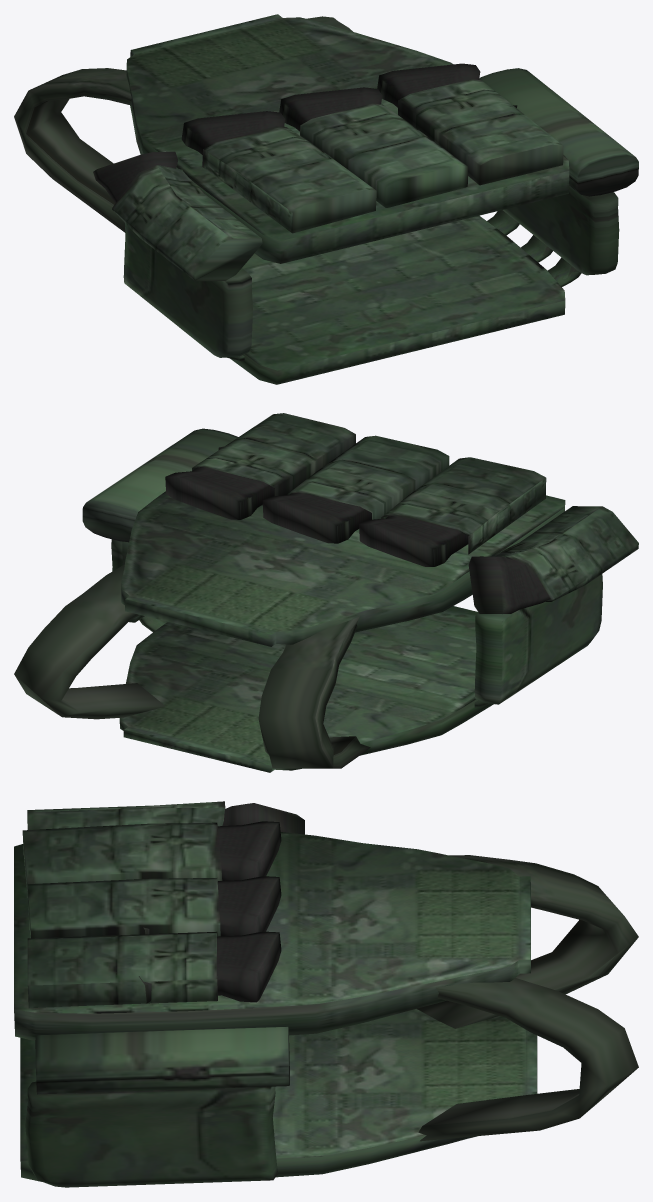
File: WorldItem_AZ_TV110_Mag.fbx
3 renders of one model, top to bottom at view 1: azimuth 30°, elevation 25°; view 2: azimuth 150°, elevation 25°; view 3: azimuth 270°, elevation 25°, orthographic. The views are drawn at different scales.
Visible parts, largest first — view 1: Cube; view 2: Cube; view 3: Cube.
Part boxes in pixels (<box>): Cube: <box>14,14,638,384</box>; Cube: <box>14,413,638,772</box>; Cube: <box>14,801,638,1187</box>.
Size of the model in its own units: 0.2674 by 0.1016 by 0.279.
